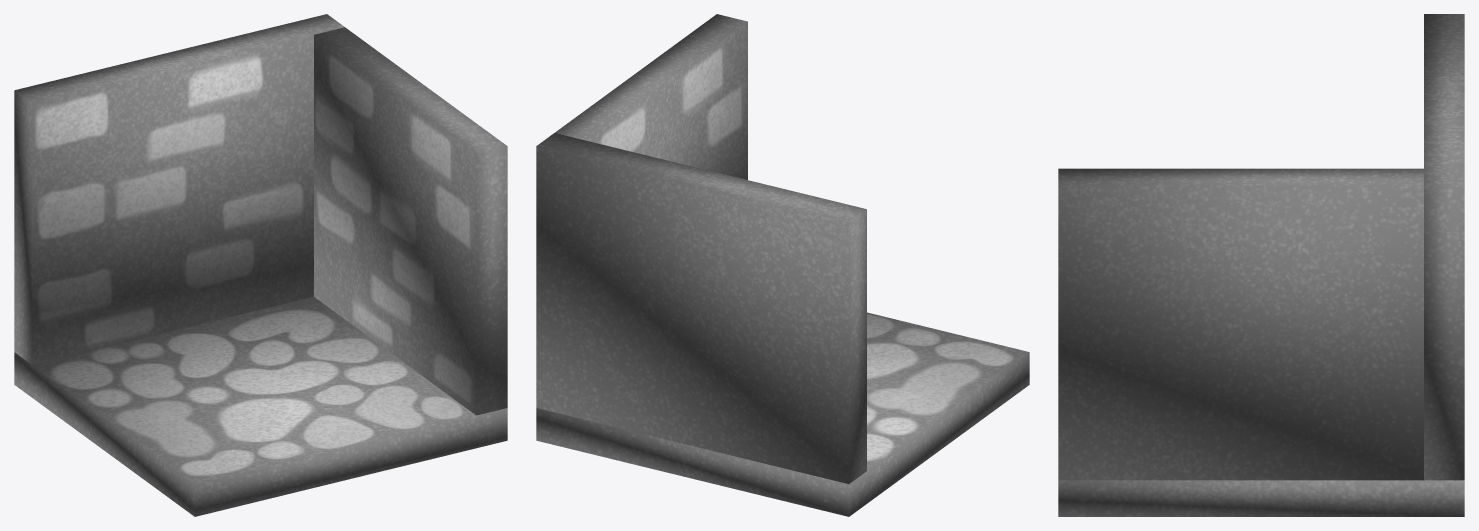
File: DungeonCorner.obj
3 views of the same model, side by side, from view 1: azimuth 30°, elevation 25°; view 2: azimuth 150°, elevation 25°; view 3: azimuth 270°, elevation 25° (orthographic). The views are drawn at different scales.
Parts seen in each view (by area): view 1: Box001; view 2: Box001; view 3: Box001.
Boxes of the visible parts, left/top/right/bottom form: Box001: left=14, top=14, right=507, bottom=516; Box001: left=536, top=14, right=1029, bottom=516; Box001: left=1058, top=14, right=1464, bottom=516.
Size of the model in its own units: 10 by 9 by 10.
